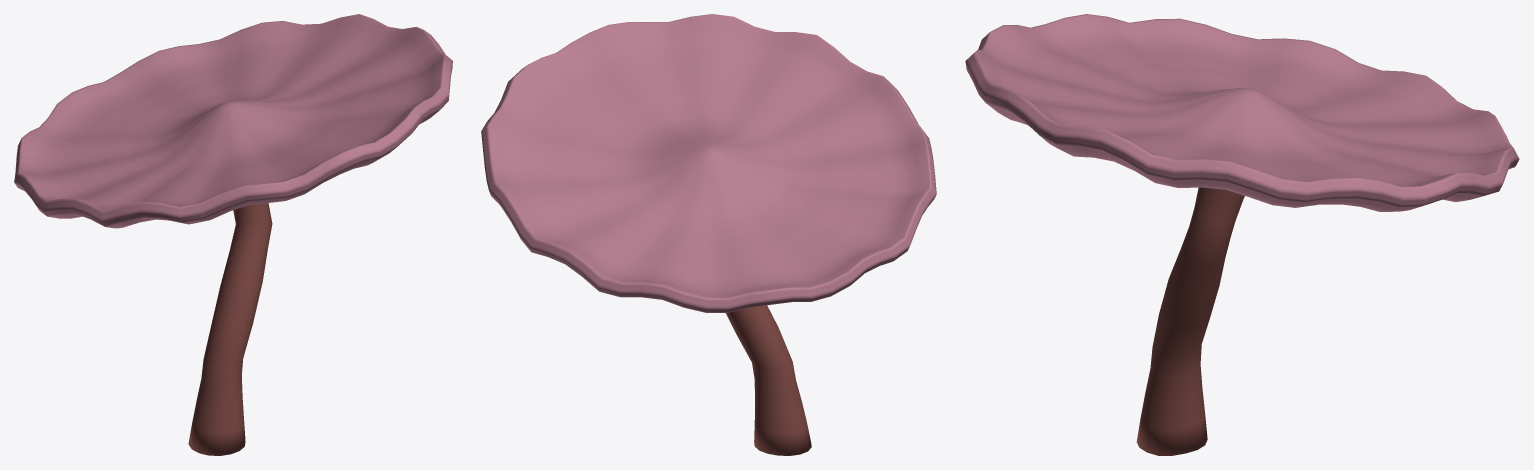
Rendered from mushroomFlower01_001.fbx.
3 views of the same model, side by side, from view 1: azimuth 30°, elevation 25°; view 2: azimuth 150°, elevation 25°; view 3: azimuth 270°, elevation 25° (orthographic). The views are drawn at different scales.
Visible parts, largest first — view 1: Cylinder; view 2: Cylinder; view 3: Cylinder.
Part boxes in pixels (<box>): Cylinder: <box>14,14,452,455</box>; Cylinder: <box>481,14,936,455</box>; Cylinder: <box>965,14,1519,455</box>.
Size of the model in its own units: 176 by 151 by 176.
